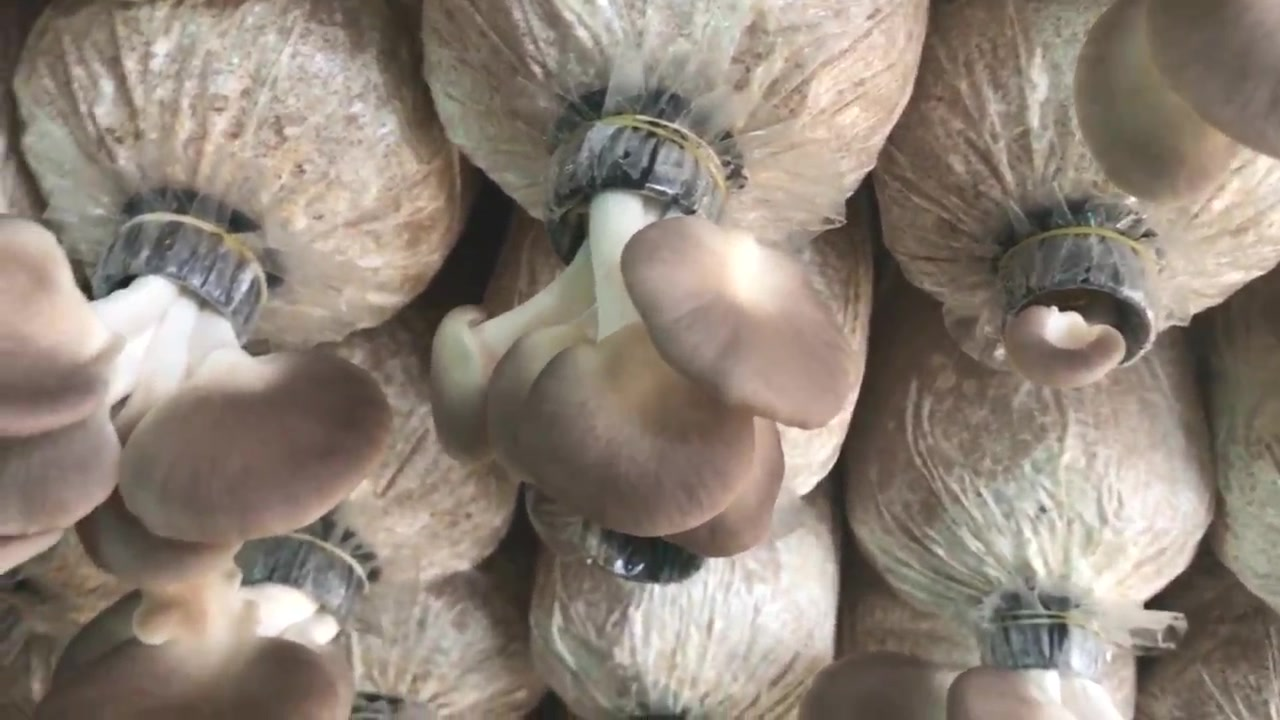nam: (431, 119, 850, 555), (1, 211, 388, 582), (35, 537, 360, 720), (1076, 1, 1276, 201), (796, 615, 1120, 718), (1000, 231, 1156, 387)
